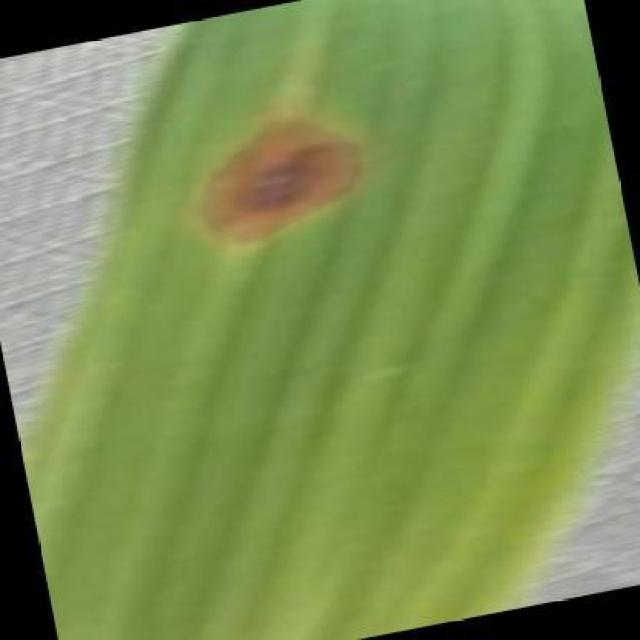Leaf_Blast: (182, 101, 380, 264), (161, 594, 225, 640), (573, 155, 615, 200)
